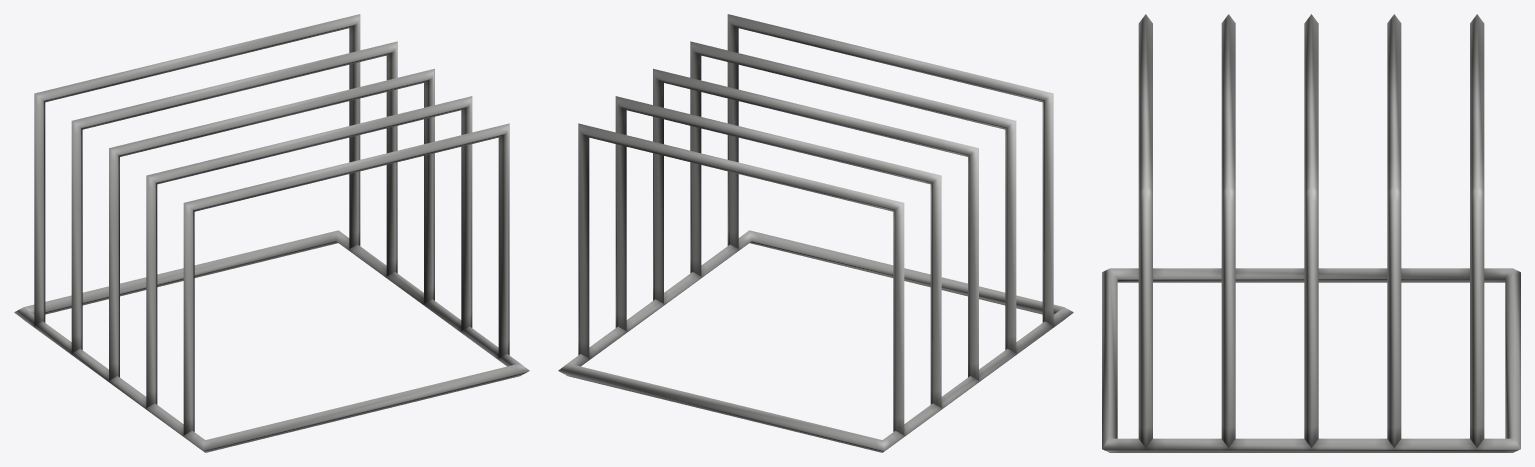
File: KR_Cutting_board_stand_01_01.fbx
The picture shows the model from 3 angles, left to right: view 1: azimuth 30°, elevation 25°; view 2: azimuth 150°, elevation 25°; view 3: azimuth 270°, elevation 25°; orthographic projection. The views are drawn at different scales.
Visible parts, largest first — view 1: kr_cutting_board_stand_01_01; view 2: kr_cutting_board_stand_01_01; view 3: kr_cutting_board_stand_01_01.
Part boxes in pixels (bbox=[...]): kr_cutting_board_stand_01_01: bbox=[14, 14, 529, 452]; kr_cutting_board_stand_01_01: bbox=[558, 14, 1073, 452]; kr_cutting_board_stand_01_01: bbox=[1102, 14, 1520, 452].
Size of the model in its own units: 13 by 9.1 by 13.
